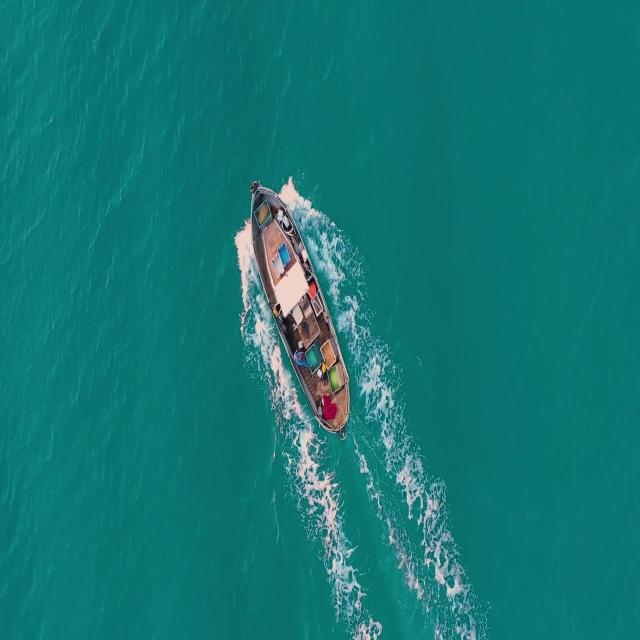ship: (248, 178, 358, 441)
